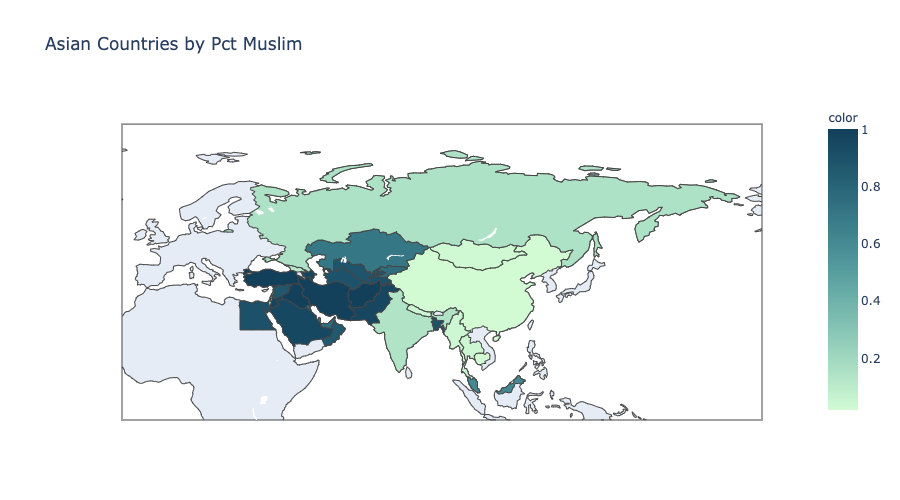

The page's visual inventory and layout, read from the dashboard file:
{"tool":"tableau","page":{"name":"Dashboard 2","canvas":[650,860],"ordinal":1},"visuals":[{"type":"worksheet","title":"Sheet 3","mark":"Multipolygon","box":[8,9.8,474,840.3]},{"type":"legend","title":"Sheet 3","param":"[federated.18ai2ps00hkj1114wkhbp0jn7sxn].[none:CONTINENT:nk]","box":[482,9.8,160,253.4]}]}

Visuals, with their boxes on the page's 650x860 design canvas (x1, y1, x2, y2). These are canvas units, not pixel positions in the 900x500 screenshot, which may show the page scaled, cropped or inside an application window:
"Sheet 3" worksheet (Multipolygon marks): crop(8, 10, 482, 850)
"Sheet 3" legend: crop(482, 10, 642, 263)
